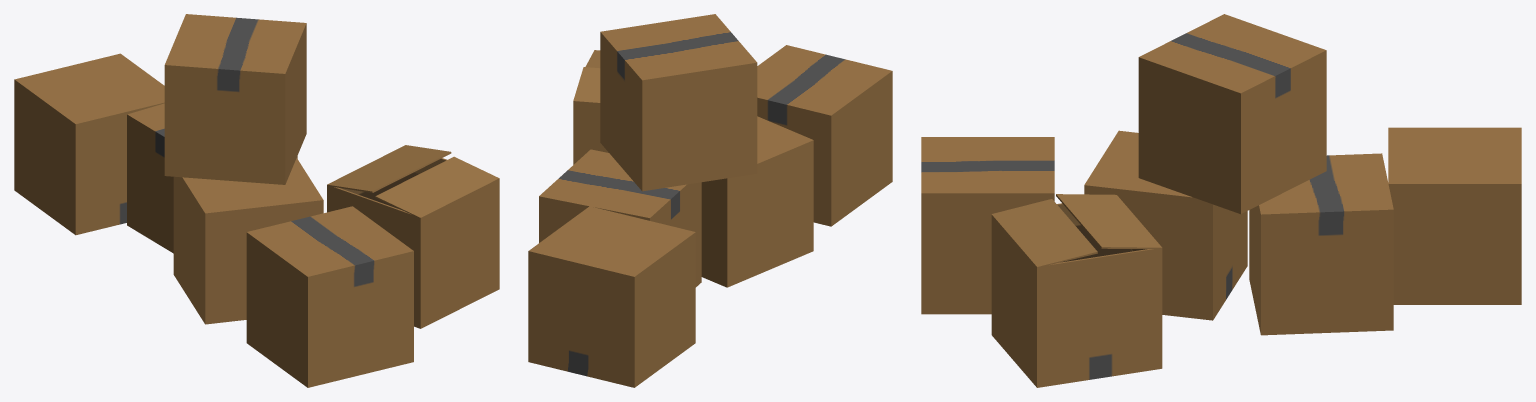
Rendered from BoxPile0.fbx.
3 renders of one model, left to right at view 1: azimuth 30°, elevation 25°; view 2: azimuth 150°, elevation 25°; view 3: azimuth 270°, elevation 25°, orthographic. The views are drawn at different scales.
Parts seen in each view (by area): view 1: BoxPile0; view 2: BoxPile0; view 3: BoxPile0.
Boxes of the visible parts, x1,y1,x2,y2 form: BoxPile0: (14, 14, 499, 387); BoxPile0: (528, 14, 892, 387); BoxPile0: (921, 14, 1521, 387).
Size of the model in its own units: 148 by 120 by 270.
